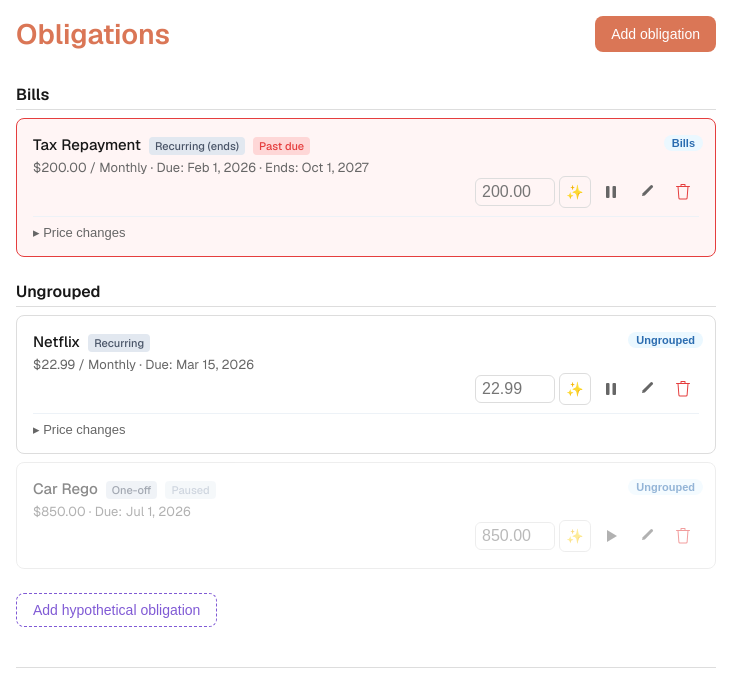
ObligationsPage › shows error state when move fund API fails
The width and height of the screenshot is (733, 693).
Expected: the text "Netflix" is shown, [33,332,80,351]
Click the button with test id "fund-pill-1": coordinates (666, 340) [628,332,703,348]
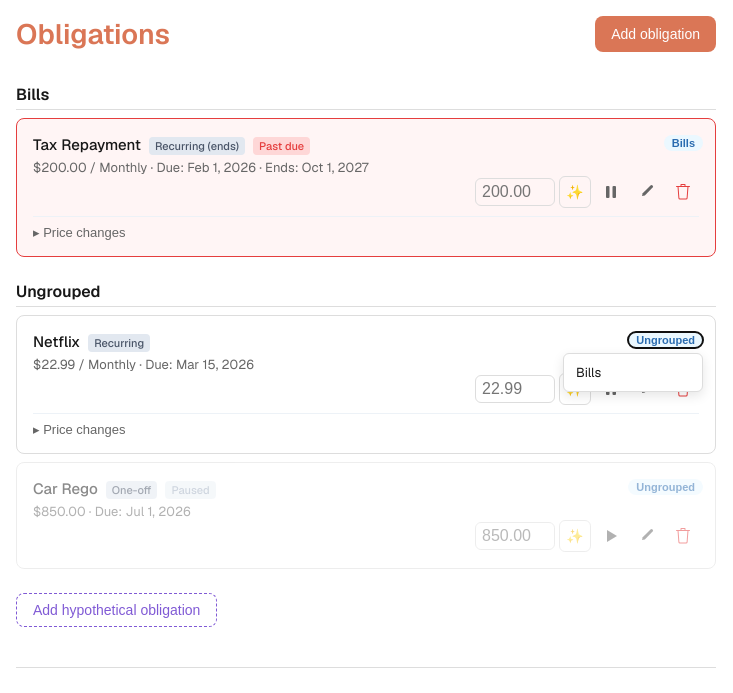
Click the option with test id "fund-option-g1": coordinates (589, 372) [576,364,601,381]
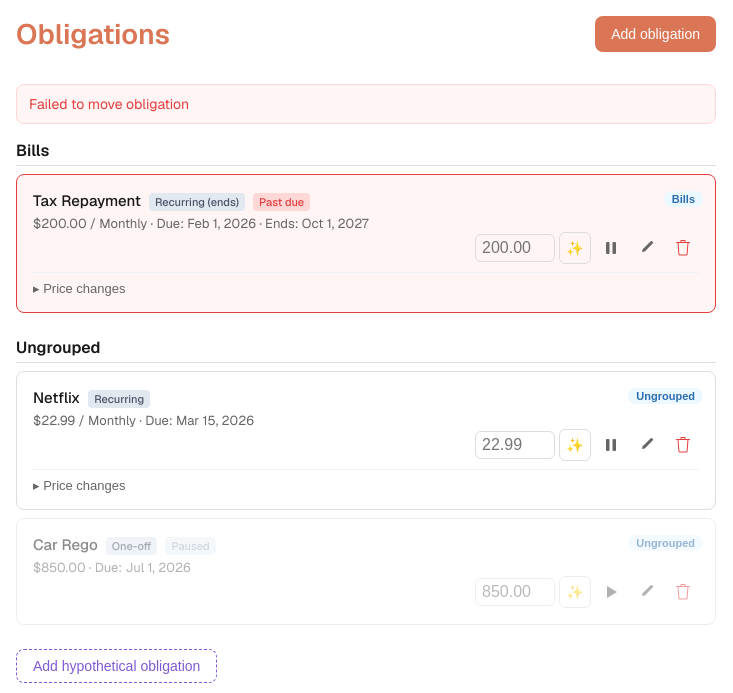
Expected: the message reads "Failed to move obligation", [29,95,189,113]
